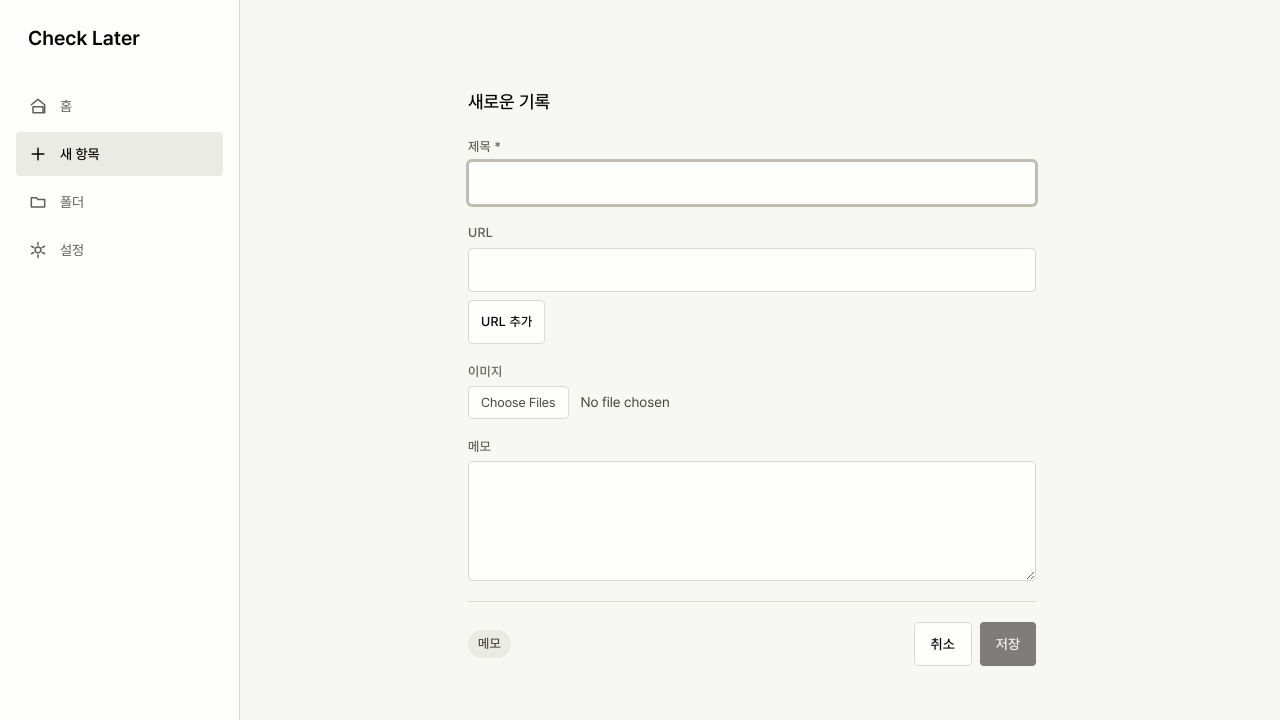
NewItemPage › URL 필드에 일반 URL 입력 시 글 타입 자동 감지
Step 1. Type "https://example.com" into the field named "URL 1" → (752, 270), box [468, 248, 1036, 292]
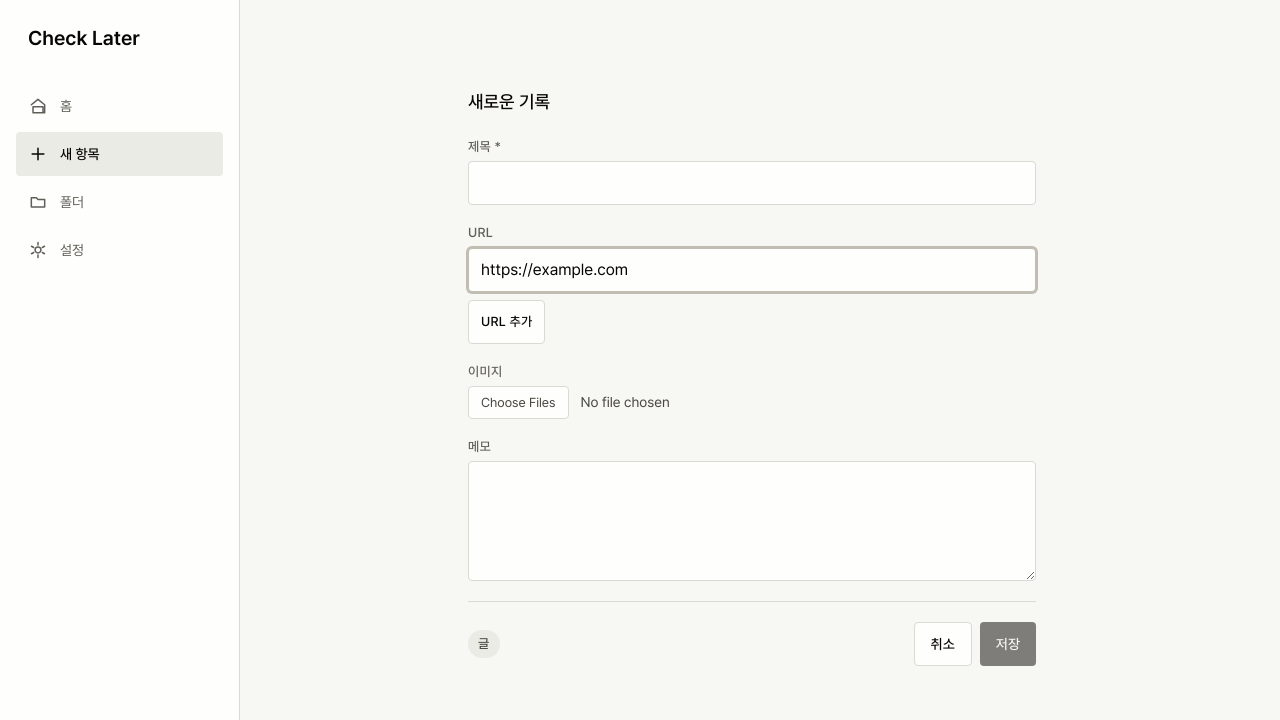
Check: the text "글" is shown, box [468, 630, 500, 658]
